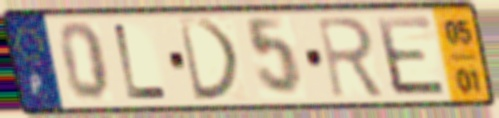0: (57, 18, 113, 106)
5: (241, 15, 308, 103)
D: (174, 16, 244, 105)
E: (372, 14, 451, 99)
L: (111, 21, 171, 102)
R: (313, 14, 387, 101)
